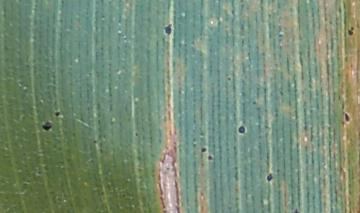tarspot: (162, 22, 173, 36), (41, 120, 54, 131), (342, 112, 351, 123), (266, 171, 273, 183), (238, 126, 246, 135), (225, 74, 233, 83), (348, 24, 353, 37), (53, 110, 62, 117), (276, 32, 285, 38), (200, 146, 207, 153), (251, 99, 258, 106), (292, 207, 300, 213), (91, 138, 98, 144), (134, 131, 140, 137), (207, 154, 213, 160)
